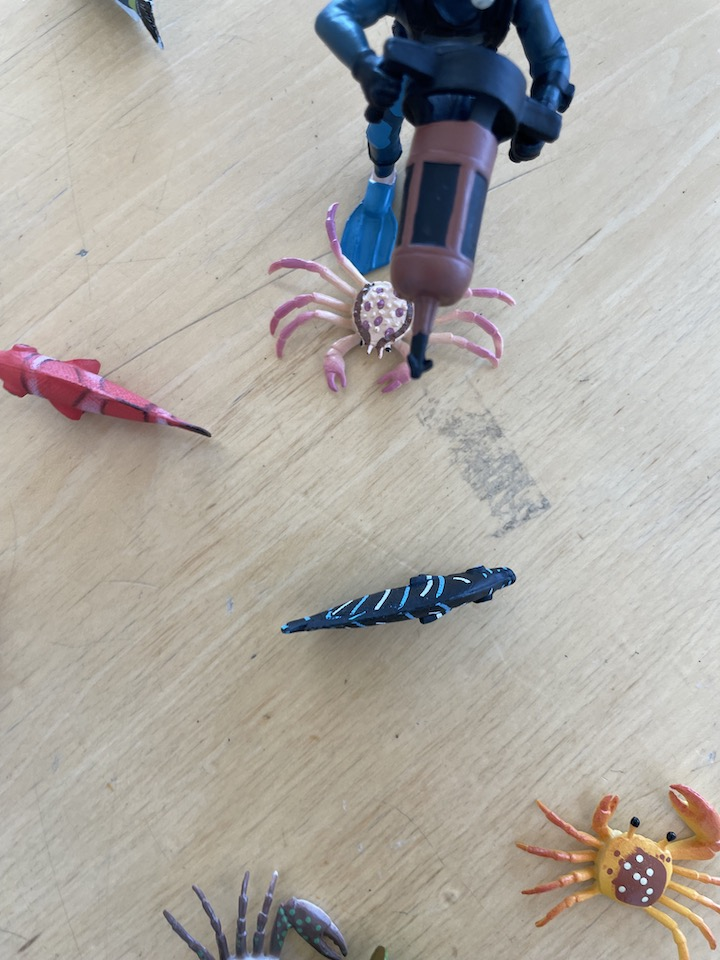crab: (266, 201, 516, 396), (512, 780, 720, 960), (159, 867, 389, 960)
diver: (311, 1, 578, 384)
fish: (1, 339, 220, 445), (279, 559, 522, 642), (97, 1, 178, 57)
